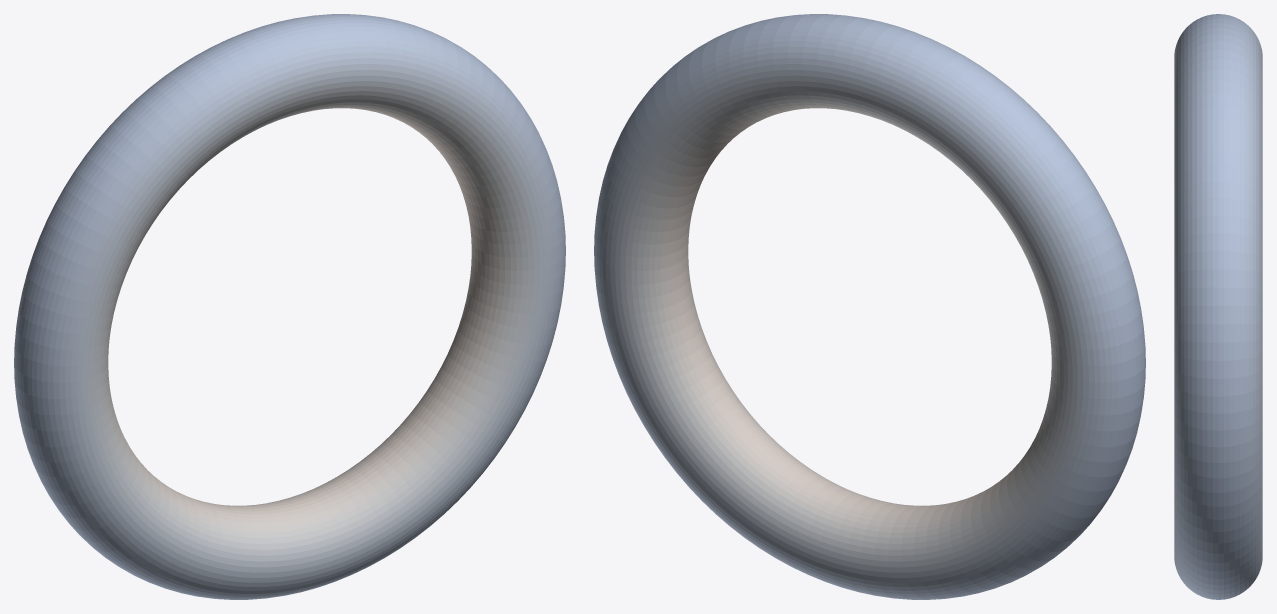
3 renders of one model, left to right at view 1: azimuth 30°, elevation 25°; view 2: azimuth 150°, elevation 25°; view 3: azimuth 270°, elevation 25°, orthographic. The views are drawn at different scales.
Parts seen in each view (by area): view 1: world; view 2: world; view 3: world.
Boxes of the visible parts, x1=… form: world: x1=14, y1=14, x2=565, y2=599; world: x1=594, y1=14, x2=1145, y2=599; world: x1=1174, y1=14, x2=1262, y2=599.
Size of the model in its own units: 29.07 by 29.07 by 4.39.
